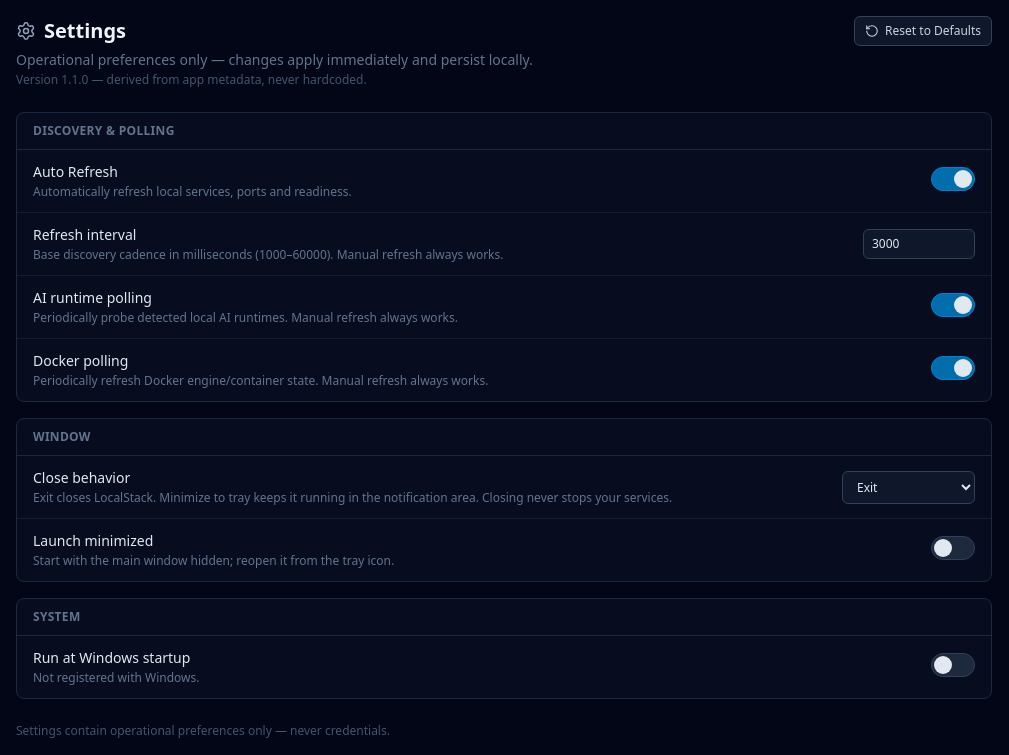
Scenario: accessibility (Phase 10D) › destructive confirmation keeps default focus on the safe control
Expected: the heading "Discovery & Polling" is shown, [17, 113, 991, 150]
Arming the reset must NOT move focus to the destructive button.
Step 1. Click the button "Reset to Defaults" → (923, 31), box [854, 16, 992, 46]
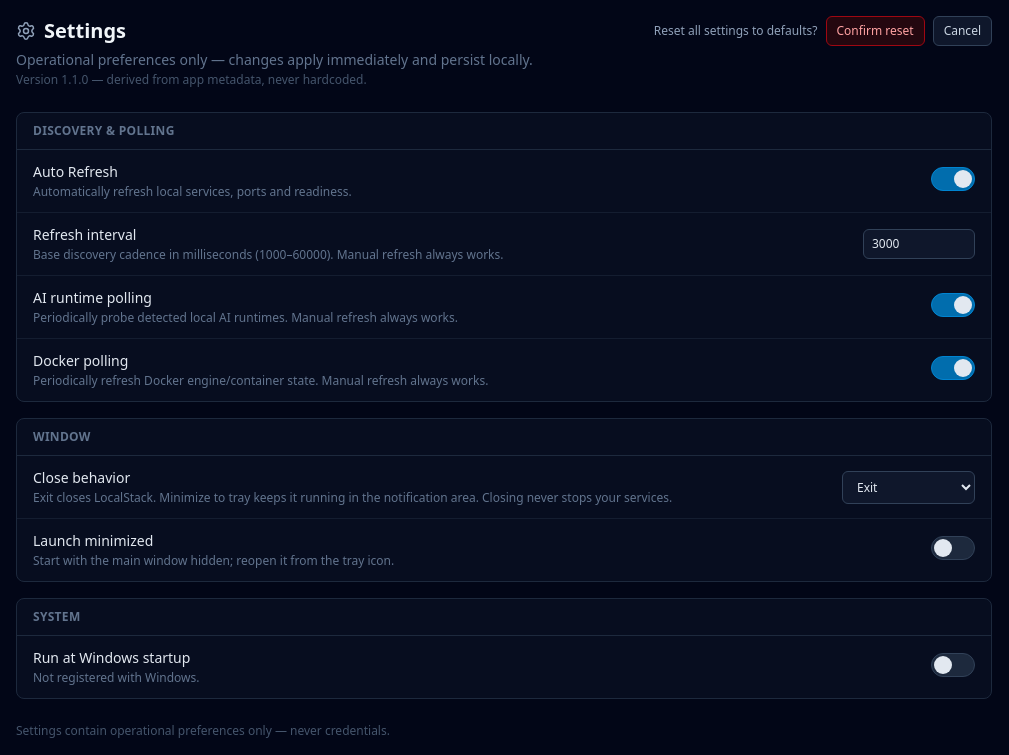
Result: the button "Confirm reset" is shown at [826, 16, 925, 46]
